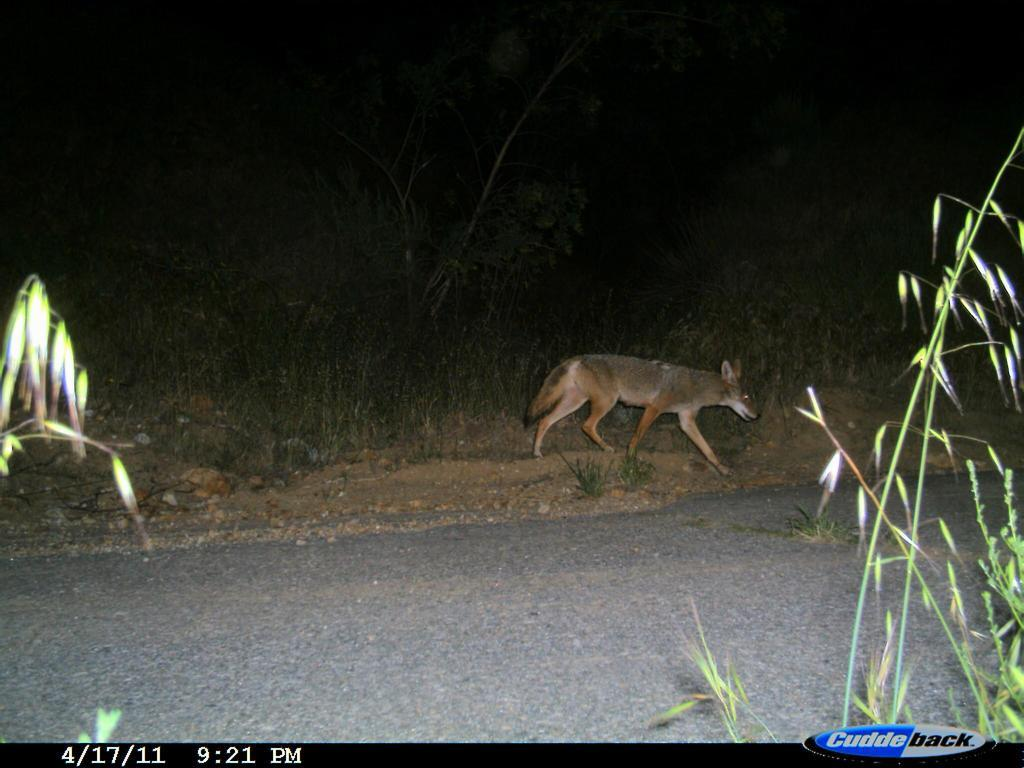coyote: (518, 346, 766, 483)
